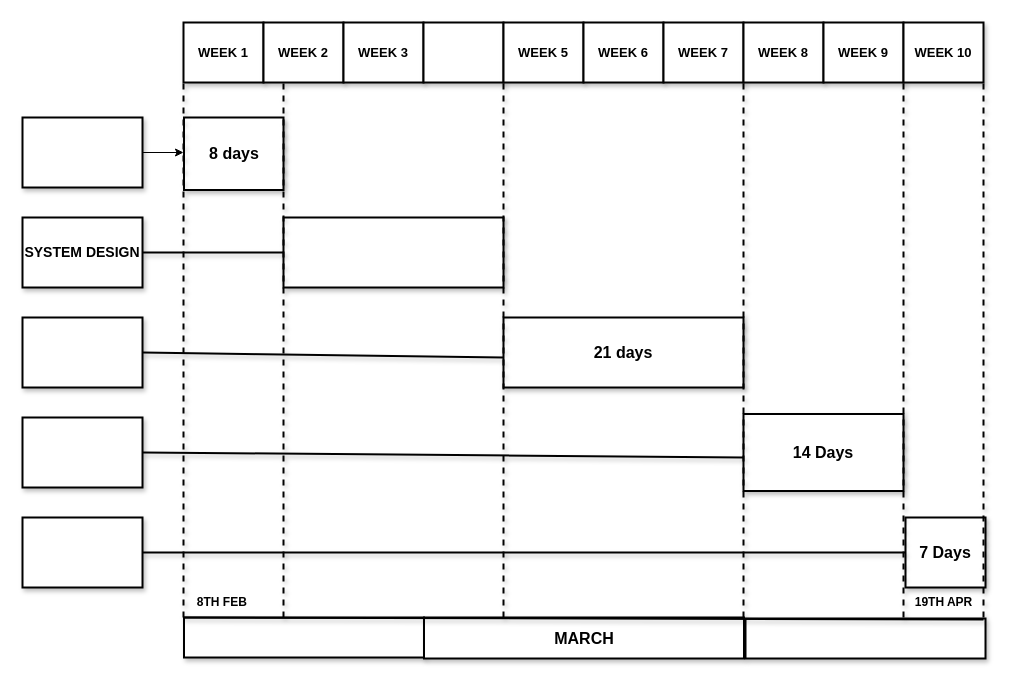
Some shapes in this 1009 by 683 pixel diagram are drawn without their labels. The centre of each missing label's shape, as x and y in pixels:
"19 days" belongs at point (394, 253).
"APRIL" belongs at point (866, 639).
"FEBRUARY" belongs at point (304, 638).
"IMPLEMENTATION" belongs at point (83, 353).
"LITERATURE SURVEY" belongs at point (83, 153).
"REPORT GENERATION AND PAPER PUBLICATION" belongs at point (83, 553).
"TESTING AND INTEGRATION" belongs at point (83, 453).
"WEEK 4" belongs at point (464, 53).
